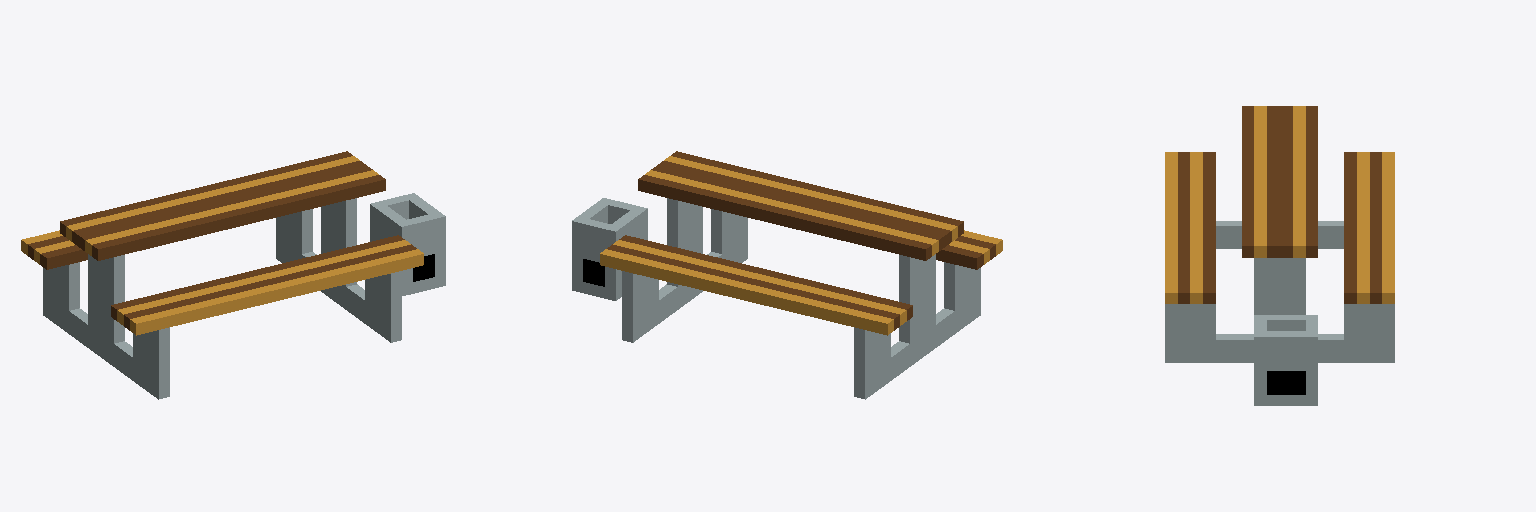
The picture shows the model from 3 angles: view 1: azimuth 30°, elevation 25°; view 2: azimuth 150°, elevation 25°; view 3: azimuth 270°, elevation 25°; orthographic projection.
Parts seen in each view (by area): view 1: object 1; view 2: object 1; view 3: object 1.
Part boxes in pixels (bbox=[...]): object 1: bbox=[21, 151, 445, 399]; object 1: bbox=[572, 151, 1002, 399]; object 1: bbox=[1165, 106, 1394, 405].
Size of the model in its own units: 3.2 by 1.1 by 1.8.
1 materials, 1 textured.